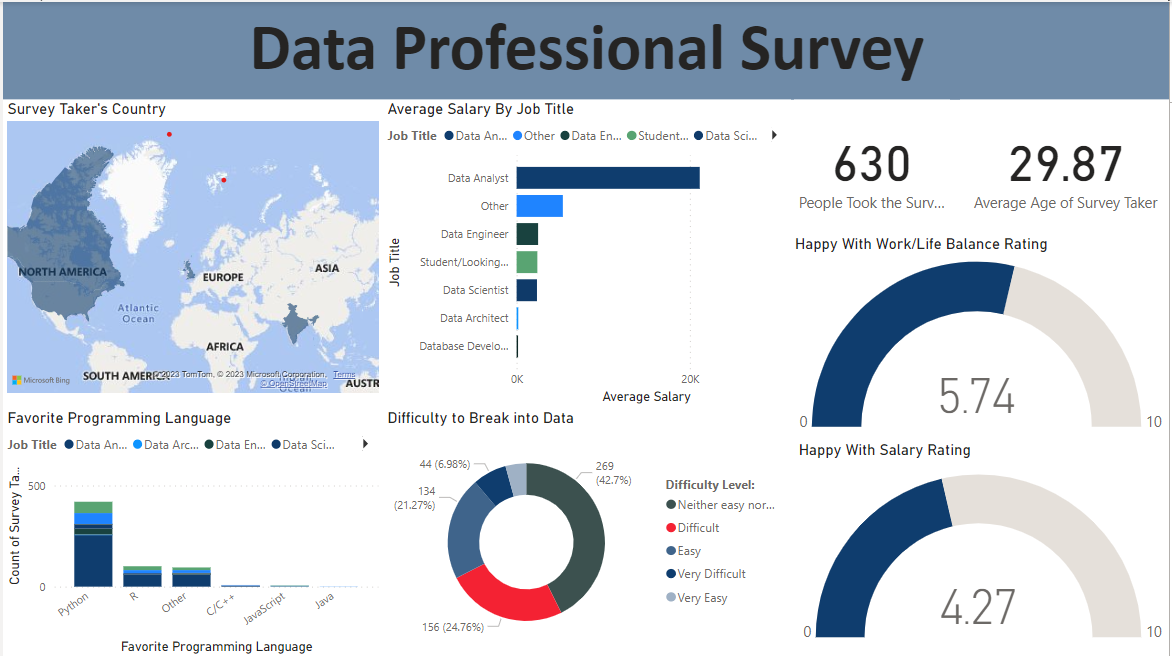

Layout of this report page (visuals, bound fields, positions):
{"tool":"powerbi","page":{"name":"Page 1","canvas":[1280,720],"ordinal":0},"visuals":[{"type":"textbox","box":[0,0,1280.6,106.9],"z":0},{"type":"card","fields":{"Values":["Count(Data Professional Survey.Unique ID)"]},"box":[867.9,106.9,170,148.1],"z":1},{"type":"card","fields":{"Values":["Avg(Data Professional Survey.Q10 - Current Age)"]},"box":[1050.2,106.9,230.3,148.1],"z":2},{"type":"barChart","title":"Average Salary By Job Title","fields":{"Category":["Data Professional Survey.Q1 - Which Title Best Fits your Current Role?.1"],"Y":["Sum(Data Professional Survey.Average Salary)"],"Series":["Data Professional Survey.Q1 - Which Title Best Fits your Current Role?.1"]},"box":[416.8,106.9,447,338.6],"z":3},{"type":"columnChart","title":"Favorite Programming Language","fields":{"Category":["Data Professional Survey.Q5 - Favorite Programming Language.1"],"Y":["CountNonNull(Data Professional Survey.Unique ID)"],"Series":["Data Professional Survey.Q1 - Which Title Best Fits your Current Role?.1"]},"box":[0,445.6,416.8,274.2],"z":4},{"type":"filledMap","title":"Survey Taker''s Country","fields":{"Category":["Data Professional Survey.Q11 - Which Country do you live in?.1"]},"box":[0,106.9,416.8,327.7],"z":5},{"type":"gauge","title":"Happy With Salary Rating","fields":{"Y":["Avg(Data Professional Survey.Q6 - How Happy are you in your Current Position with the following? (Salary))"],"MinValue":["Min(Data Professional Survey.Q6 - How Happy are you in your Current Position with the following? (Salary))"],"MaxValue":["Max(Data Professional Survey.Q6 - How Happy are you in your Current Position with the following? (Salary))1"]},"box":[867.9,481.2,412.7,238.6],"z":6},{"type":"gauge","title":"Happy With Work/Life Balance Rating","fields":{"Y":["Avg(Data Professional Survey.Q6 - How Happy are you in your Current Position with the following? (Work/Life Balance))"],"MinValue":["Min(Data Professional Survey.Q6 - How Happy are you in your Current Position with the following? (Work/Life Balance))1"],"MaxValue":["Max(Data Professional Survey.Q6 - How Happy are you in your Current Position with the following? (Work/Life Balance))2"]},"box":[863.8,255,416.8,226.2],"z":7},{"type":"donutChart","title":"Difficulty to Break into Data","fields":{"Category":["Data Professional Survey.Q7 - How difficult was it for you to break into Data?"],"Y":["CountNonNull(Data Professional Survey.Q7 - How difficult was it for you to break into Data?)"]},"box":[416.8,445.6,447,274.2],"z":8}]}

Visuals, with their boxes in screenshot pixels (x1, y1, x2, y2), scaled from the page's 1280x720 canvas onto the 1172x656 screenshot:
textbox: [0, 0, 1171, 97]
card - Count(Data Professional Survey.Unique ID): [795, 97, 950, 232]
card - Avg(Data Professional Survey.Q10 - Current Age): [962, 97, 1171, 232]
"Average Salary By Job Title" barChart: [382, 97, 791, 406]
"Favorite Programming Language" columnChart: [0, 406, 382, 655]
"Survey Taker''s Country" filledMap: [0, 97, 382, 396]
"Happy With Salary Rating" gauge: [795, 438, 1171, 655]
"Happy With Work/Life Balance Rating" gauge: [791, 232, 1171, 438]
"Difficulty to Break into Data" donutChart: [382, 406, 791, 655]
